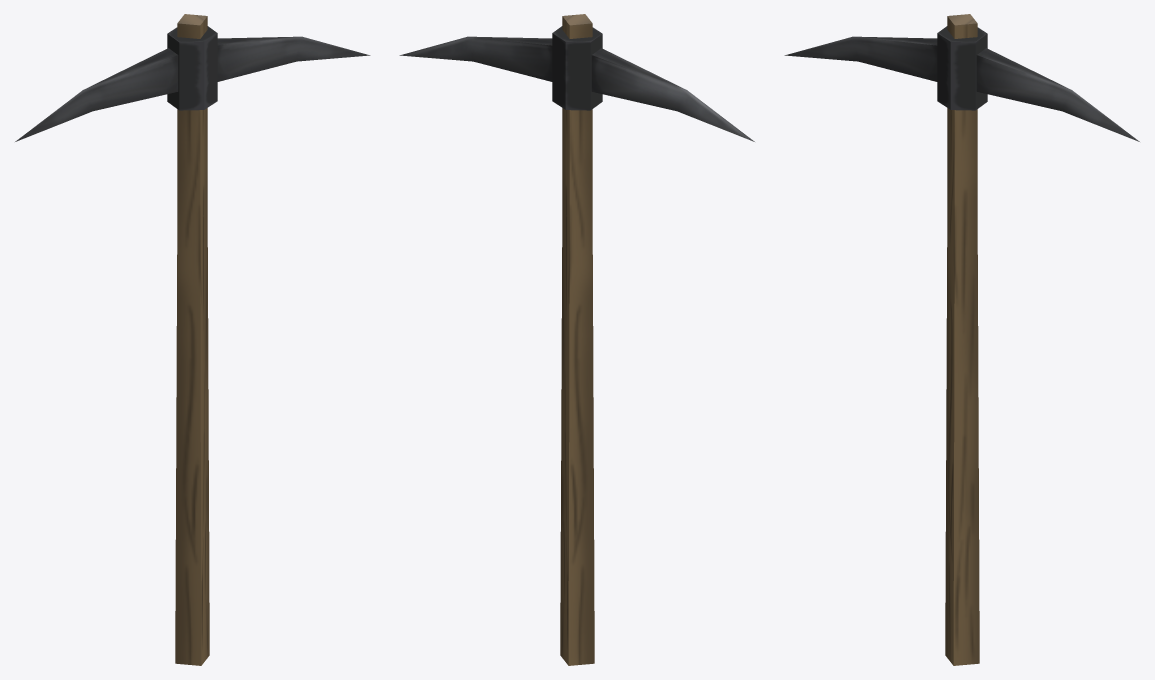
File: w_pick.FBX
The picture shows the model from 3 angles, left to right: view 1: azimuth 30°, elevation 25°; view 2: azimuth 150°, elevation 25°; view 3: azimuth 330°, elevation 25°; orthographic projection.
Visible parts, largest first — view 1: w_pick; view 2: w_pick; view 3: w_pick.
Boxes of the visible parts, bbox=[...] form: w_pick: bbox=[15, 14, 370, 665]; w_pick: bbox=[399, 14, 754, 665]; w_pick: bbox=[784, 14, 1139, 665].
Size of the model in its own units: 40.4 by 69.27 by 4.59.
